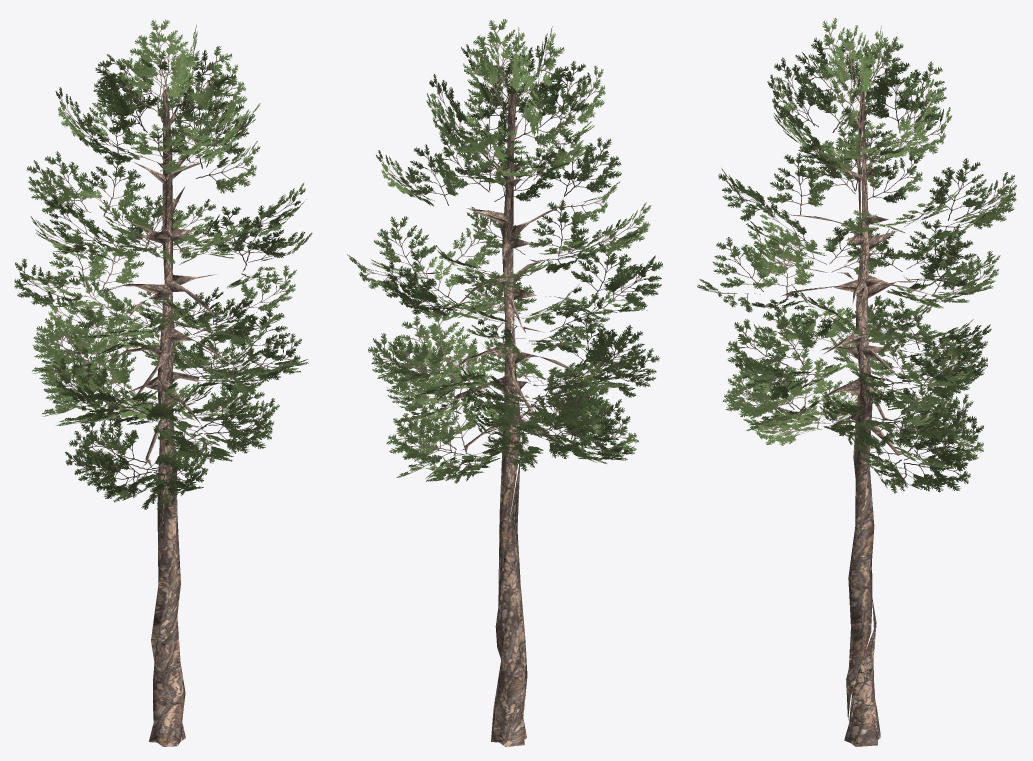
Rendered from arbre_pin_loin.glb.
The picture shows the model from 3 angles, left to right: view 1: azimuth 30°, elevation 25°; view 2: azimuth 150°, elevation 25°; view 3: azimuth 270°, elevation 25°; orthographic projection.
Visible parts, largest first — view 1: arbre_pin_loin; view 2: arbre_pin_loin; view 3: arbre_pin_loin.
Boxes of the visible parts, box(x1,y1,x2,y2) form: arbre_pin_loin: box(14, 19, 312, 746); arbre_pin_loin: box(347, 19, 662, 746); arbre_pin_loin: box(697, 18, 1016, 746).
Size of the model in its own units: 5.75 by 14.01 by 5.71.
2 materials, 2 textured.
